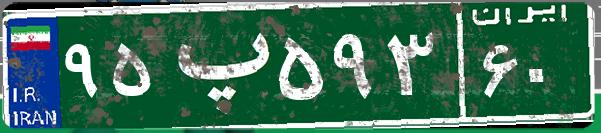0: (525, 38, 570, 115)
3: (385, 28, 445, 110)
5: (273, 28, 330, 110), (110, 28, 158, 105)
6: (475, 38, 525, 113)
9: (330, 28, 385, 110), (57, 26, 110, 107)
پ: (158, 15, 273, 115)
